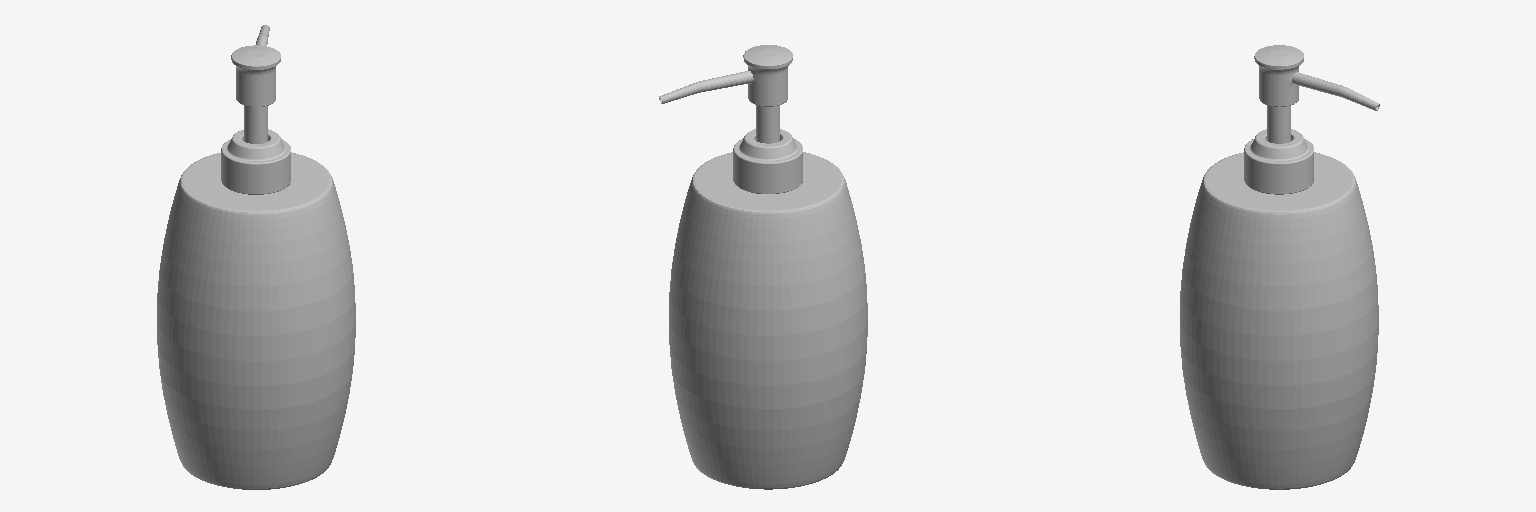
Rendered from jabon.obj.
3 views of the same model, side by side, from view 1: azimuth 30°, elevation 25°; view 2: azimuth 150°, elevation 25°; view 3: azimuth 270°, elevation 25° (orthographic).
Parts seen in each view (by area): view 1: Arch46_034_4, crema; view 2: Arch46_034_4, crema; view 3: Arch46_034_4, crema.
Boxes of the visible parts, box(x1,y1,x2,y2) form: Arch46_034_4: box(157, 152, 355, 489); crema: box(221, 25, 290, 194); Arch46_034_4: box(669, 152, 867, 489); crema: box(659, 45, 802, 193); Arch46_034_4: box(1180, 152, 1378, 489); crema: box(1244, 45, 1379, 194).
Size of the model in its own units: 0.0685 by 0.1537 by 0.069.